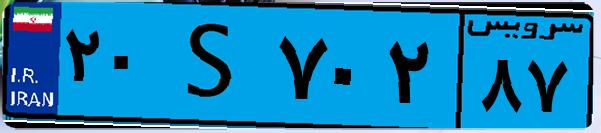0: (330, 28, 385, 110), (110, 28, 158, 98)
2: (385, 28, 445, 110), (57, 26, 110, 100)
7: (270, 28, 330, 110), (525, 38, 570, 115)
8: (475, 38, 525, 113)
S: (158, 12, 270, 120)
